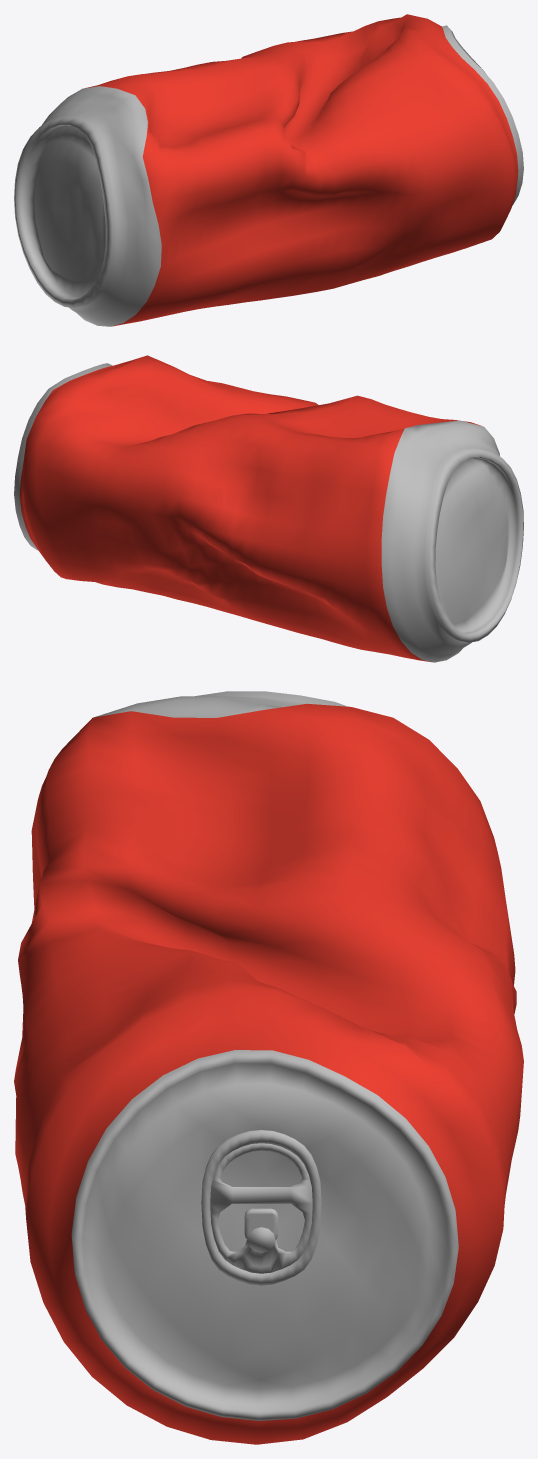
The model's file is CanDamageSmall.fbx.
3 views of the same model, one above another, from view 1: azimuth 30°, elevation 25°; view 2: azimuth 150°, elevation 25°; view 3: azimuth 270°, elevation 25° (orthographic). The views are drawn at different scales.
Parts seen in each view (by area): view 1: CanDamageSmall; view 2: CanDamageSmall; view 3: CanDamageSmall.
Part boxes in pixels (left/top/right/bottom): CanDamageSmall: left=14, top=14, right=523, bottom=326; CanDamageSmall: left=14, top=355, right=523, bottom=662; CanDamageSmall: left=14, top=691, right=523, bottom=1444.
Bounding box in the file's own units: 5.91 × 11.15 × 5.67.
